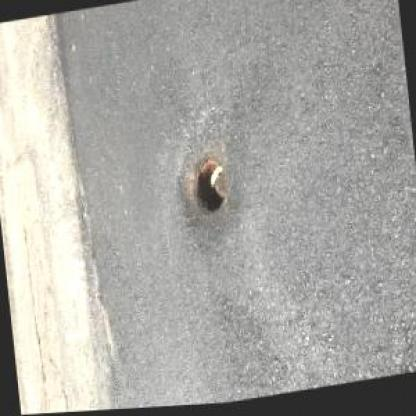pothole: (188, 153, 232, 223)
